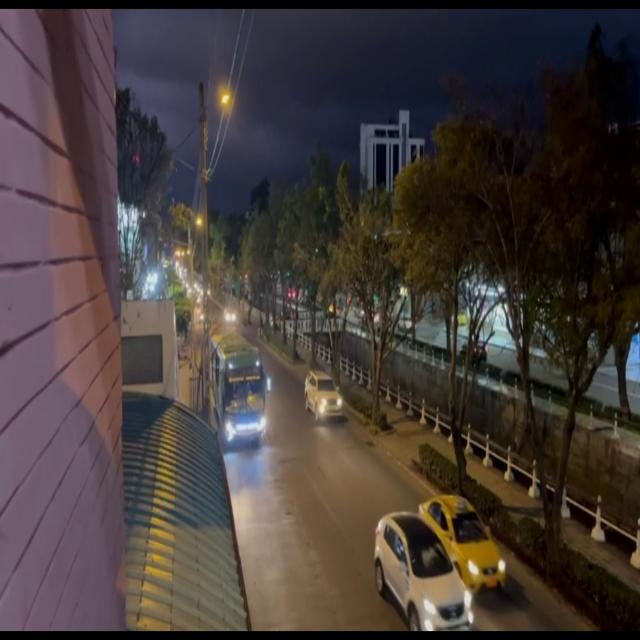BUS: (208, 332, 264, 441)
SUV: (378, 512, 474, 636)
